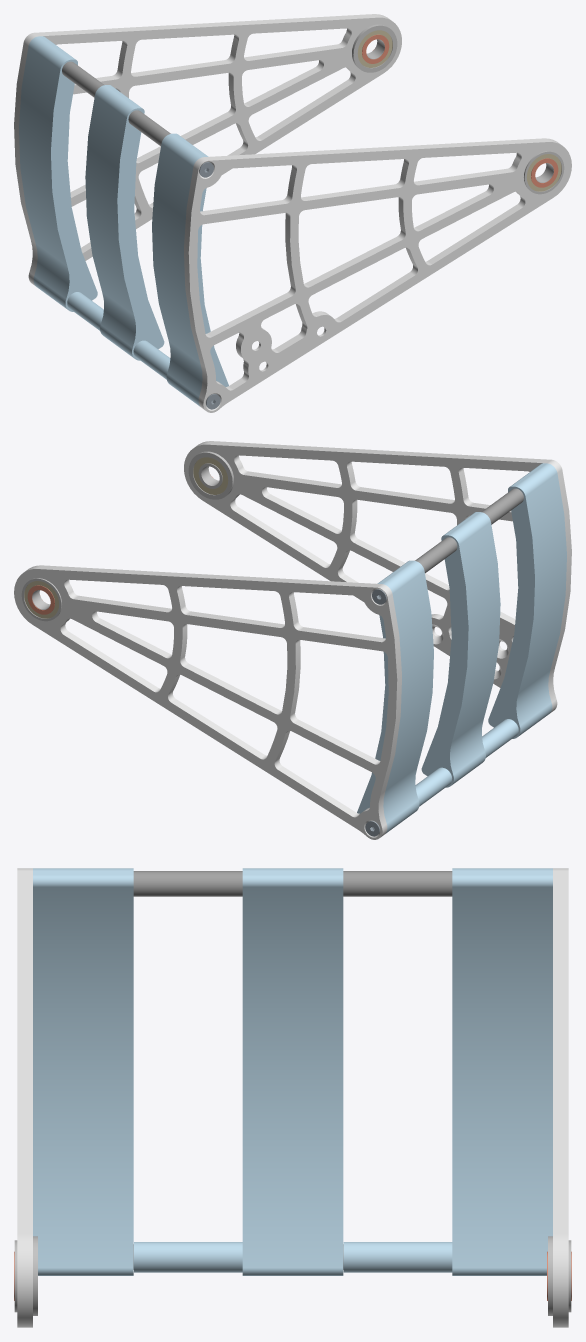
3 renders of one model, top to bottom at view 1: azimuth 30°, elevation 25°; view 2: azimuth 150°, elevation 25°; view 3: azimuth 270°, elevation 25°, orthographic. The views are drawn at different scales.
Parts seen in each view (by area): view 1: hood backing print (×3), lead screw hood plate, hood plate, 3/8" Rounded Hex (10.25mm) ID Bearing (0.875" OD, 0.281" WD, (×2), inner hood spacer (×2), hood plate standoffs; view 2: hood backing print (×3), hood plate, lead screw hood plate, 3/8" Rounded Hex (10.25mm) ID Bearing (0.875" OD, 0.281" WD, (×2), inner hood spacer (×2), hood plate standoffs; view 3: hood backing print (×3), hood plate, lead screw hood plate, inner hood spacer (×2), hood plate standoffs, 3/8" Rounded Hex (10.25mm) ID Bearing (0.875" OD, 0.281" WD, (×2).
Part boxes in pixels (x1=…): hood backing print (×3): x1=19, y1=36, x2=228, y2=406; lead screw hood plate: x1=184, y1=138, x2=571, y2=412; hood plate: x1=14, y1=14, x2=401, y2=285; 3/8" Rounded Hex (10.25mm) ID Bearing (0.875" OD, 0.281" WD, (×2): x1=352, y1=24, x2=564, y2=194; inner hood spacer (×2): x1=67, y1=292, x2=170, y2=379; hood plate standoffs: x1=62, y1=61, x2=170, y2=146; hood backing print (×3): x1=357, y1=463, x2=566, y2=833; hood plate: x1=14, y1=565, x2=401, y2=839; lead screw hood plate: x1=184, y1=441, x2=571, y2=712; 3/8" Rounded Hex (10.25mm) ID Bearing (0.875" OD, 0.281" WD, (×2): x1=21, y1=451, x2=233, y2=621; inner hood spacer (×2): x1=415, y1=719, x2=518, y2=806; hood plate standoffs: x1=415, y1=488, x2=523, y2=573; hood backing print (×3): x1=33, y1=868, x2=552, y2=1275; hood plate: x1=553, y1=868, x2=568, y2=1327; lead screw hood plate: x1=17, y1=868, x2=32, y2=1327; inner hood spacer (×2): x1=134, y1=1242, x2=452, y2=1272; hood plate standoffs: x1=133, y1=871, x2=452, y2=896; 3/8" Rounded Hex (10.25mm) ID Bearing (0.875" OD, 0.281" WD, (×2): x1=14, y1=1236, x2=571, y2=1315.
Bounding box in the file's own units: 0.2147 × 0.1355 × 0.1716.
